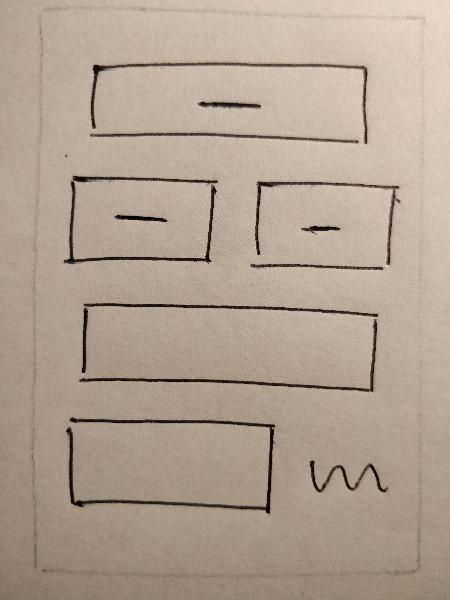button: (80, 48, 378, 153), (245, 168, 405, 280), (58, 165, 226, 271)
text: (301, 450, 407, 512)
text_input: (69, 292, 389, 404), (57, 410, 289, 522)
